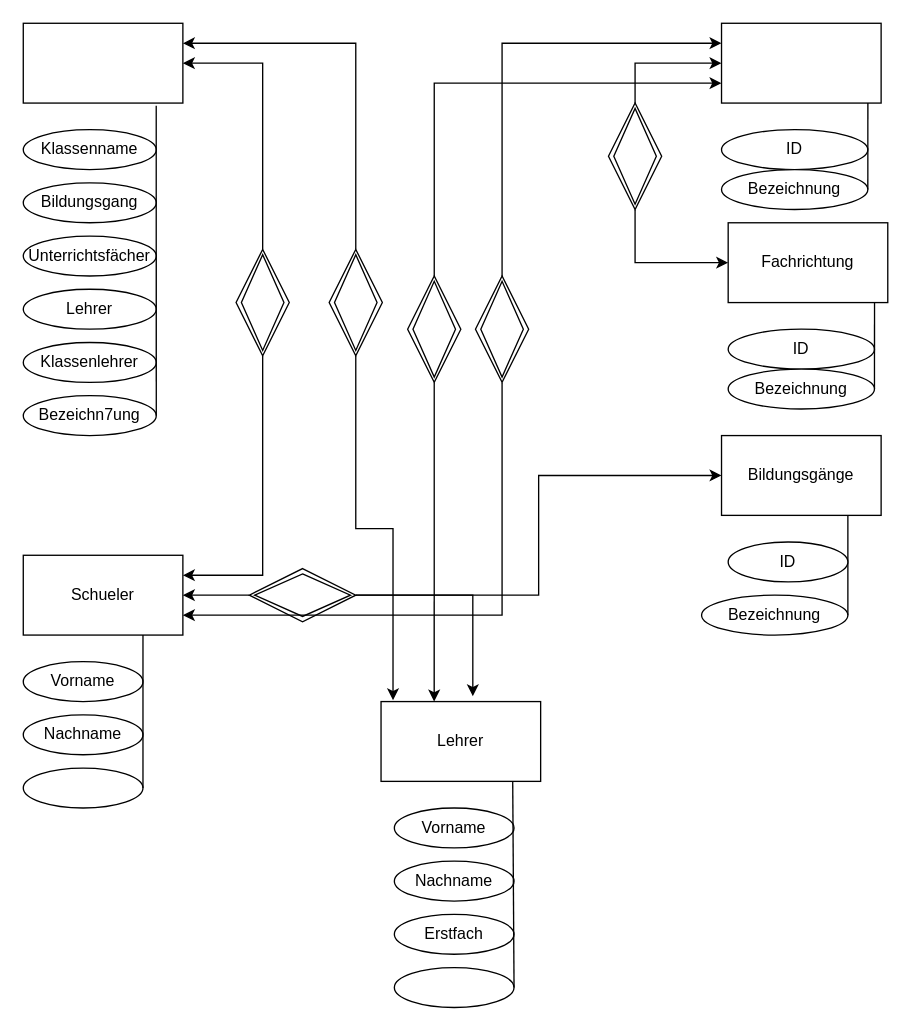
This 911x1031 diagram has some shape labels left out. Here are the shapes that lost their labels. From the top down, the box of each, then its label:
(22, 22, 183, 103): Klassen
(720, 22, 881, 103): Fächer
(22, 767, 143, 808): Klasse
(393, 966, 514, 1007): Zweitfach
